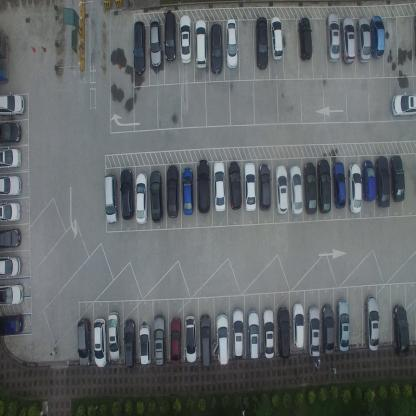car: (391, 303, 410, 358), (364, 295, 380, 352), (148, 170, 164, 224), (196, 158, 211, 214), (316, 158, 331, 214), (335, 298, 350, 354), (276, 305, 291, 361), (254, 16, 269, 72), (119, 168, 135, 220), (76, 317, 92, 368), (375, 155, 390, 209), (215, 312, 230, 366), (152, 314, 167, 367), (389, 154, 405, 203), (132, 20, 146, 76), (340, 16, 356, 64), (227, 160, 242, 211), (104, 171, 118, 225), (303, 162, 317, 215), (306, 305, 320, 358), (163, 10, 177, 63), (199, 312, 212, 369), (356, 14, 371, 63), (166, 163, 179, 219), (348, 162, 362, 214), (93, 316, 107, 368), (209, 23, 223, 75), (274, 164, 288, 215), (123, 317, 137, 368), (107, 310, 121, 361), (213, 159, 226, 213), (321, 302, 334, 356), (231, 307, 244, 361), (0, 91, 26, 118), (243, 162, 257, 212), (391, 90, 416, 118), (326, 12, 340, 62), (370, 14, 385, 60), (289, 165, 303, 214), (332, 161, 346, 210), (135, 173, 148, 225), (184, 313, 197, 364), (225, 18, 238, 69), (179, 14, 192, 65), (169, 316, 182, 366), (149, 17, 162, 67), (0, 311, 24, 338), (298, 16, 312, 62), (258, 163, 271, 211), (262, 308, 274, 360), (247, 309, 259, 361), (195, 18, 207, 70), (138, 323, 152, 367), (270, 14, 283, 61), (182, 166, 194, 216), (0, 282, 25, 306), (362, 160, 376, 202), (292, 300, 304, 348), (0, 254, 23, 279), (0, 122, 23, 146), (0, 173, 23, 197), (0, 226, 22, 251), (0, 147, 22, 170), (0, 201, 21, 223)
